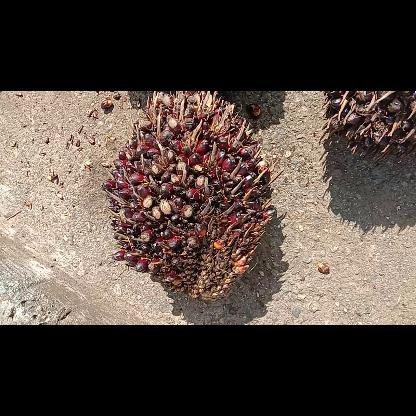TBS mentah: (102, 90, 284, 304), (323, 91, 415, 165)
